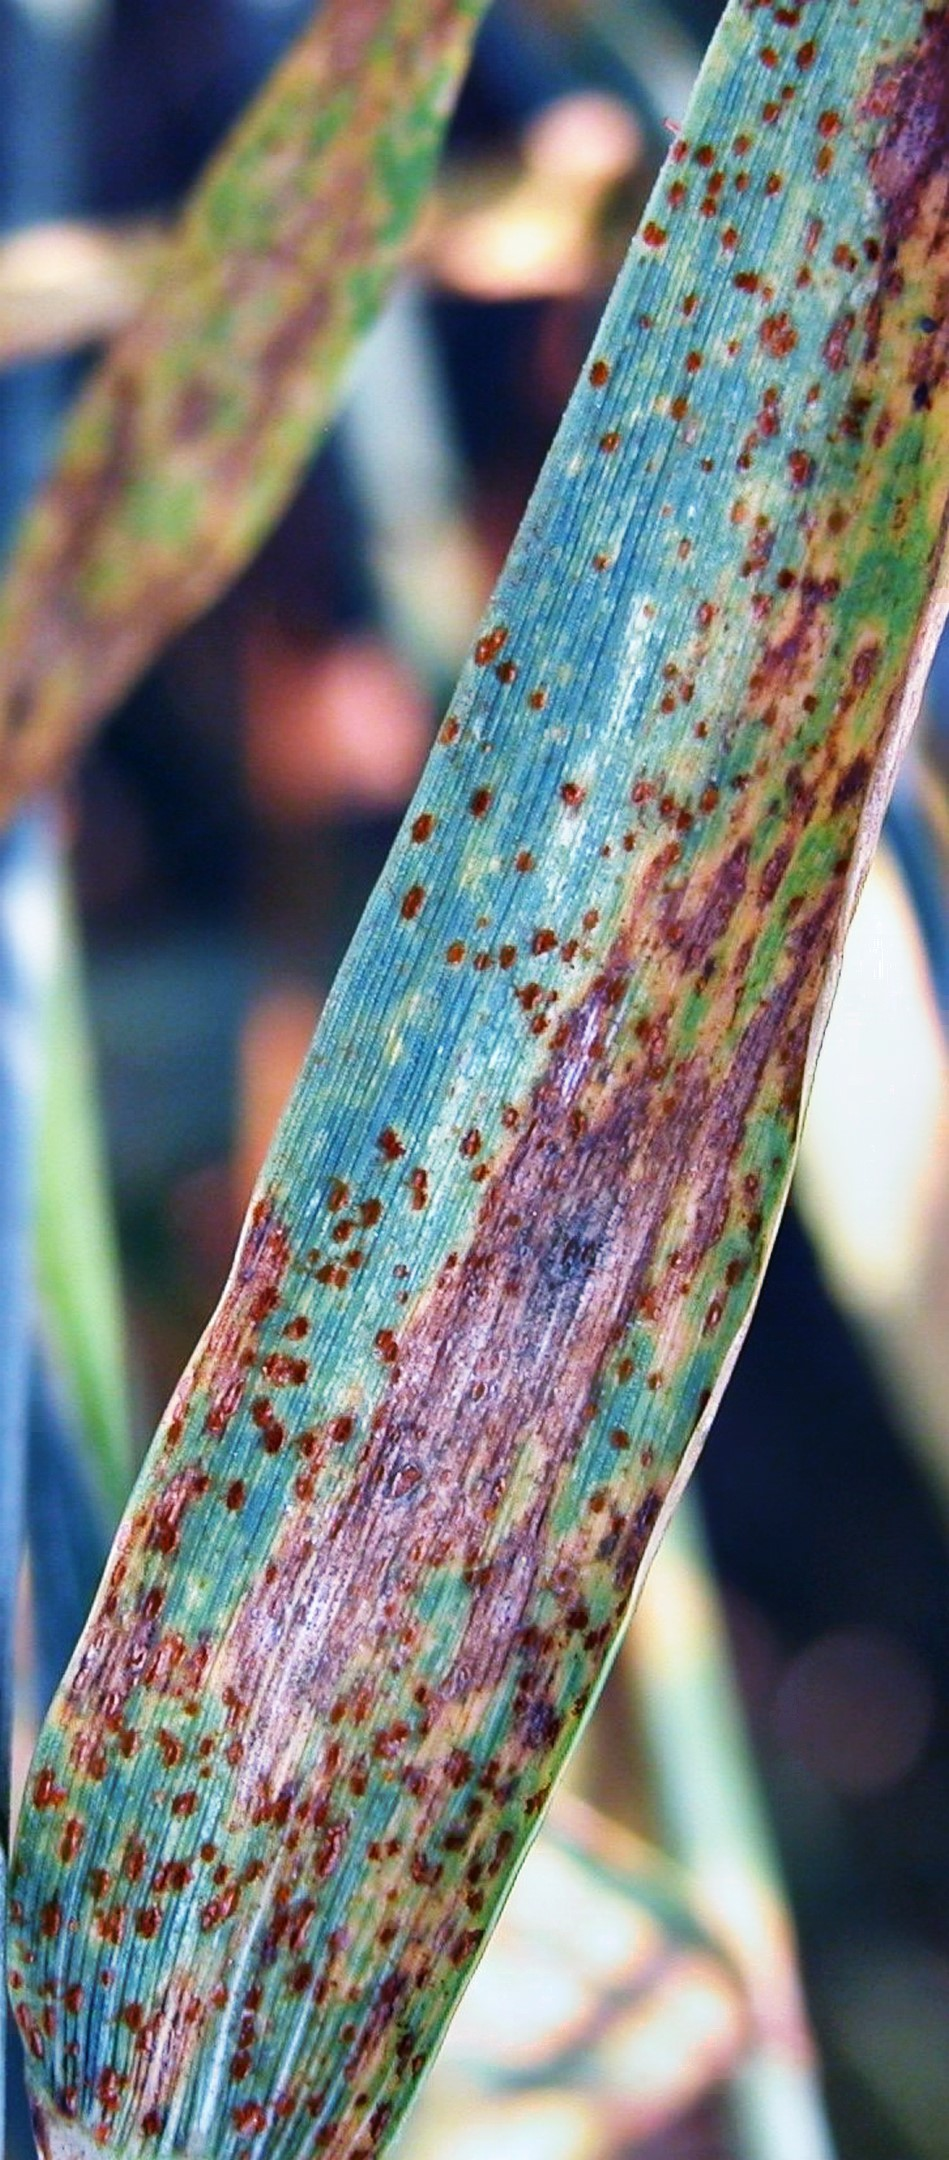Leaf Rust: (112, 205, 949, 2010)
